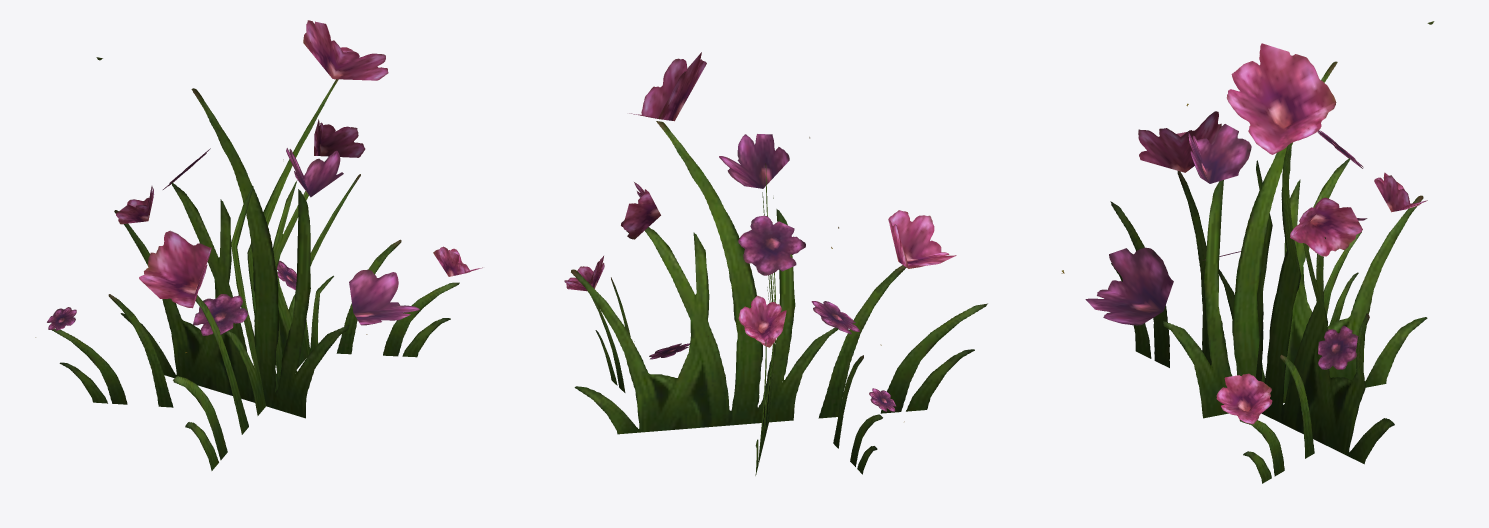
The model's file is THL3_2.fbx.
3 renders of one model, left to right at view 1: azimuth 30°, elevation 25°; view 2: azimuth 150°, elevation 25°; view 3: azimuth 270°, elevation 25°, orthographic. The views are drawn at different scales.
Visible parts, largest first — view 1: polySurface45; view 2: polySurface45; view 3: polySurface45.
Boxes of the visible parts, <box> form: polySurface45: <box>35,20,482,470</box>; polySurface45: <box>564,52,987,475</box>; polySurface45: <box>1061,21,1434,483</box>.
Bounding box in the file's own units: 2.41 × 2.11 × 1.89.
